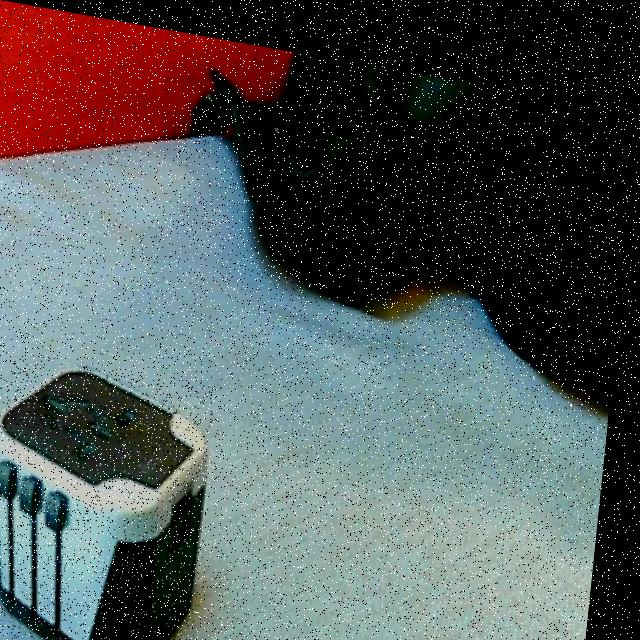adapter: (0, 348, 224, 640)
